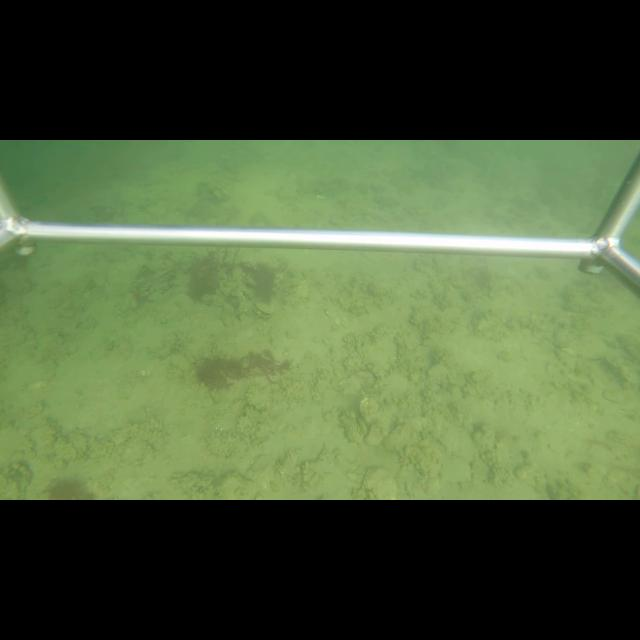Oyster-Closed: (340, 410, 365, 445)
Oyster-Open: (244, 293, 276, 321)
